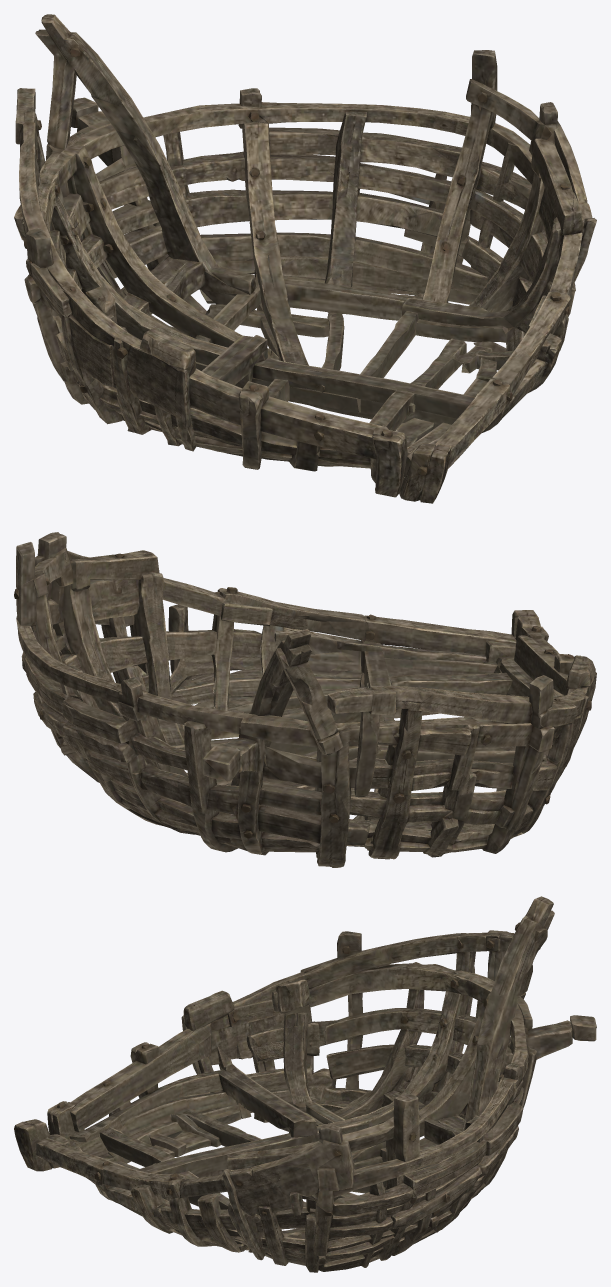
Rendered from boat_frame.glb.
The picture shows the model from 3 angles, top to bottom: view 1: azimuth 30°, elevation 25°; view 2: azimuth 150°, elevation 25°; view 3: azimuth 270°, elevation 25°; orthographic projection. The views are drawn at different scales.
Parts seen in each view (by area): view 1: boat_frame; view 2: boat_frame; view 3: boat_frame.
Part boxes in pixels (left/top/right/bottom): boat_frame: left=14, top=14, right=596, bottom=503; boat_frame: left=14, top=532, right=596, bottom=867; boat_frame: left=14, top=896, right=596, bottom=1272.
Size of the model in its own units: 1.65 by 0.8587 by 1.9.
Materials: 1 (1 with a texture image).
